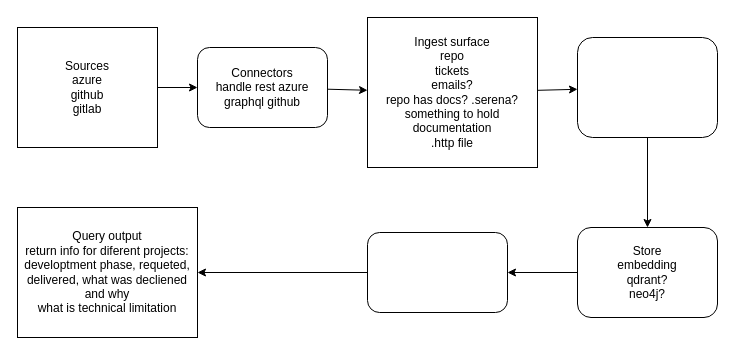
Some shapes in this 735 by 355 pixel diagram are drawn without their labels. Here are the shapes that lost their labels. From the top down, the box of each, then its label:
(576, 36, 718, 138): Sync / ingest pipeline run against repos sync documentation ingest embed
(366, 232, 508, 312): Model local model? to work with it
